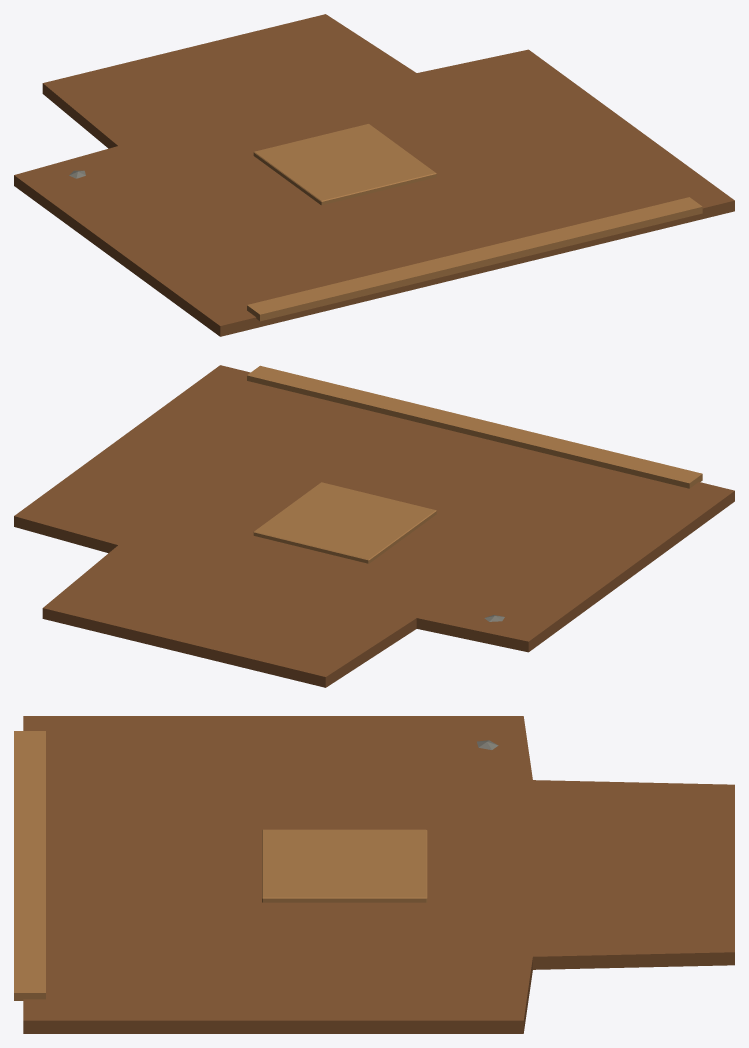
The picture shows the model from 3 angles, top to bottom: view 1: azimuth 30°, elevation 25°; view 2: azimuth 150°, elevation 25°; view 3: azimuth 270°, elevation 25°; orthographic projection. The views are drawn at different scales.
Visible parts, largest first — view 1: WK_TownHardscape_TH09_LOD2; view 2: WK_TownHardscape_TH09_LOD2; view 3: WK_TownHardscape_TH09_LOD2.
Part boxes in pixels (x1,y1,x2,y2): WK_TownHardscape_TH09_LOD2: (14, 14, 734, 336); WK_TownHardscape_TH09_LOD2: (14, 365, 734, 687); WK_TownHardscape_TH09_LOD2: (14, 716, 734, 1033).
Bounding box in the file's own units: 4 × 0.12 × 4.
